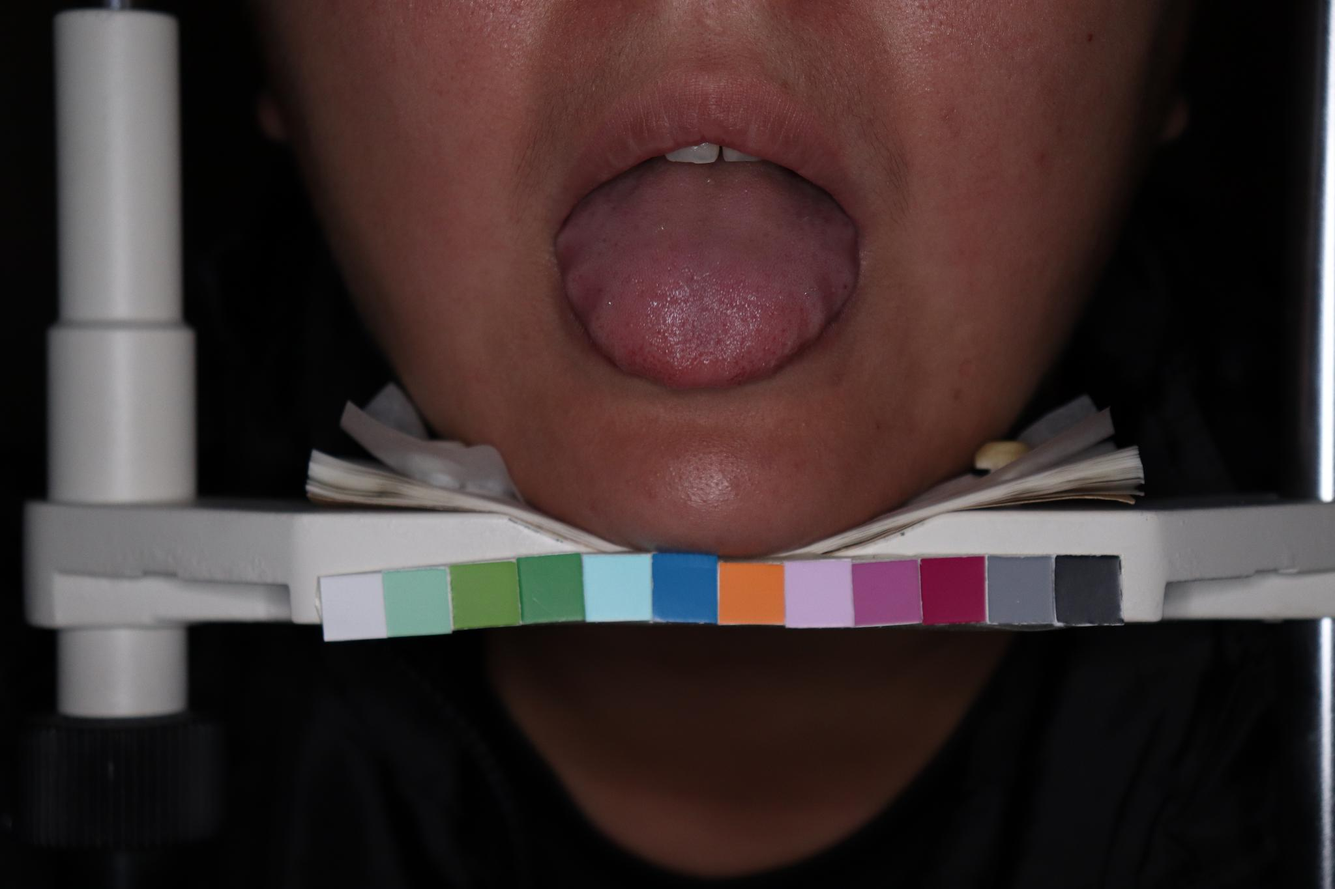baitaishe: (555, 163, 858, 389)
chihenshe: (794, 226, 859, 349), (557, 233, 609, 343)
